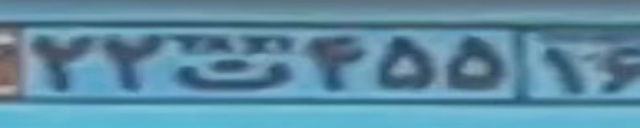1: (543, 46, 582, 93)
2: (32, 32, 89, 91), (102, 31, 158, 89)
4: (307, 35, 365, 89)
5: (442, 38, 506, 88), (374, 37, 433, 87)
6: (595, 47, 639, 92)
te: (174, 55, 292, 90)
